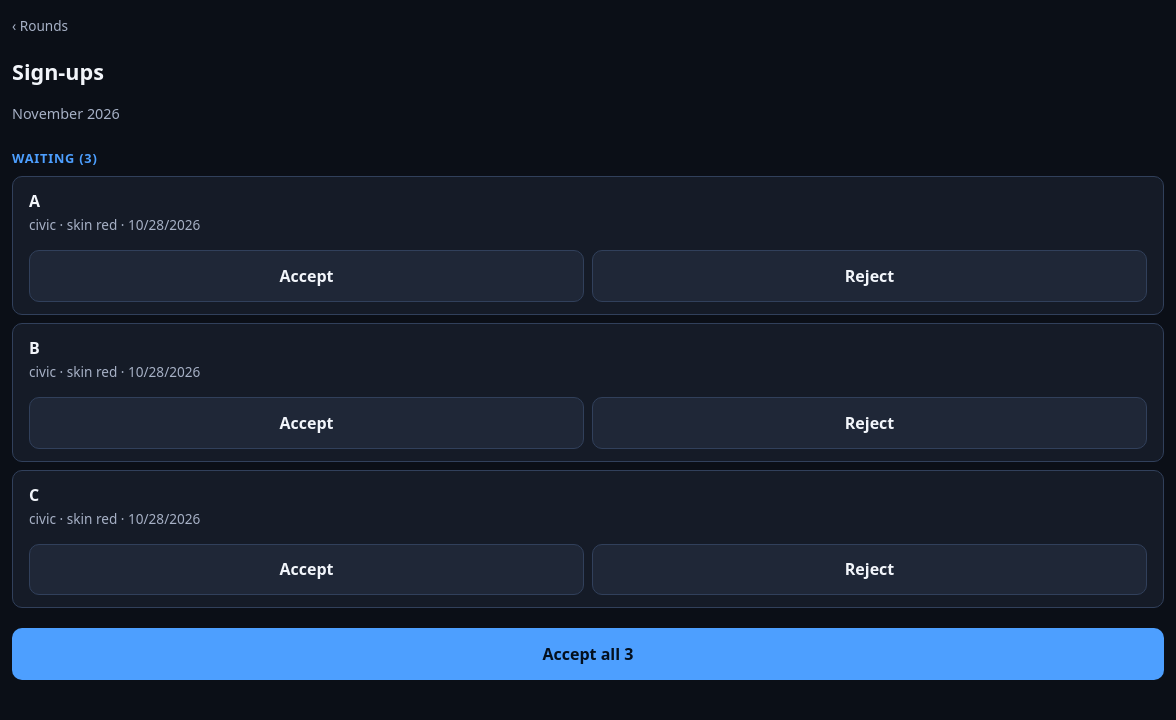
Test: the sign-ups screen › accepts all one at a time, and stops at the first that fails
The image size is (1176, 720).
Step 1. Click the button "Accept all 3" → (588, 654), box [12,628,1164,680]
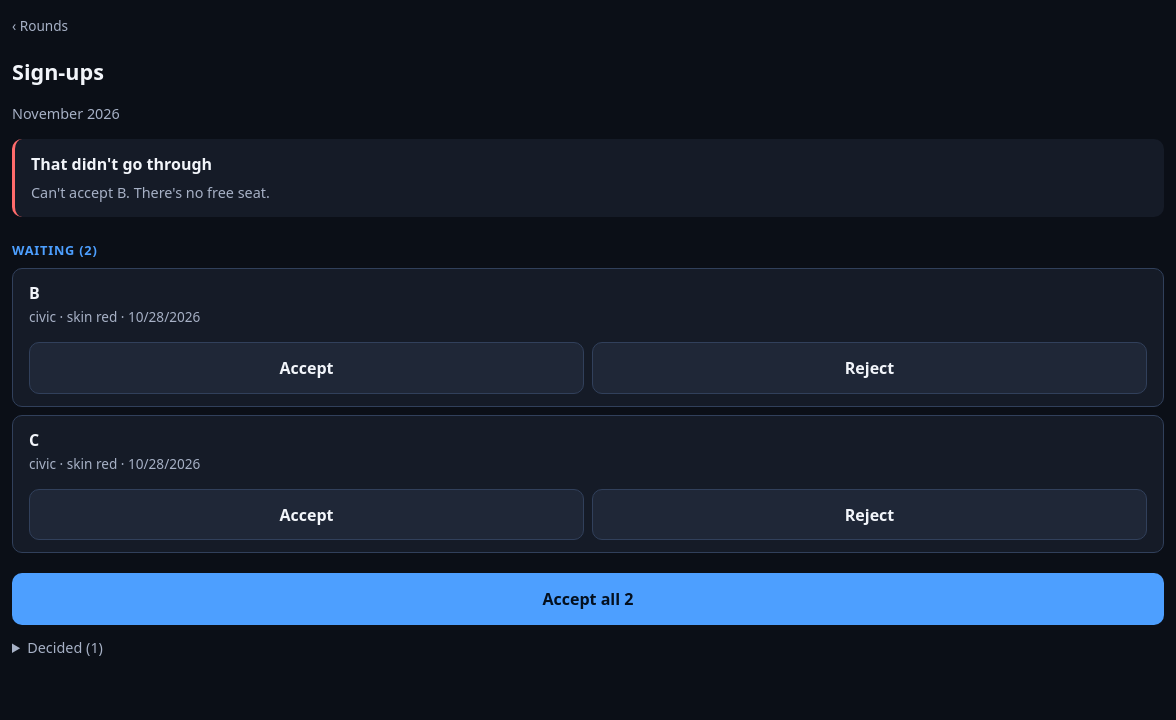
expect the text "Can't accept B. There's no free seat." is shown: met, box [31,183,270,202]
